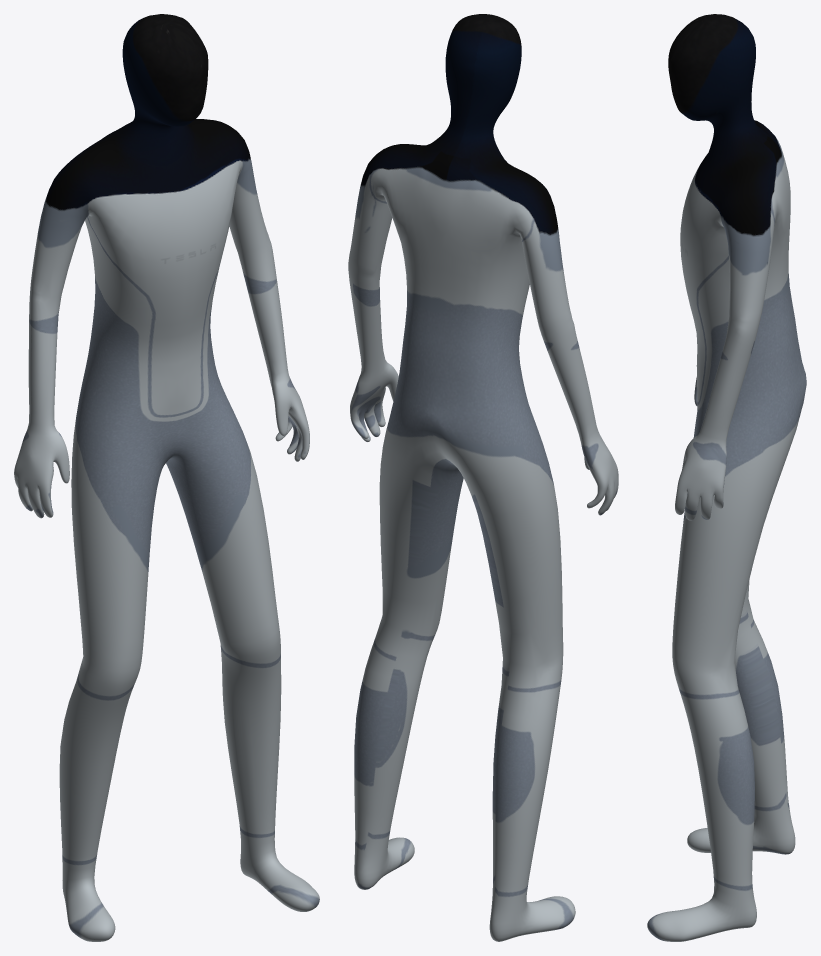
The model's file is tesla_bot.glb.
3 views of the same model, side by side, from view 1: azimuth 30°, elevation 25°; view 2: azimuth 150°, elevation 25°; view 3: azimuth 270°, elevation 25° (orthographic). The views are drawn at different scales.
Visible parts, largest first — view 1: body1; view 2: body1; view 3: body1.
Part boxes in pixels (x1=…): body1: x1=14, y1=14, x2=319, y2=941; body1: x1=348, y1=14, x2=618, y2=941; body1: x1=647, y1=14, x2=806, y2=941.
Bounding box in the file's own units: 0.6261 × 1.98 × 0.3309.
1 material, 1 textured.
